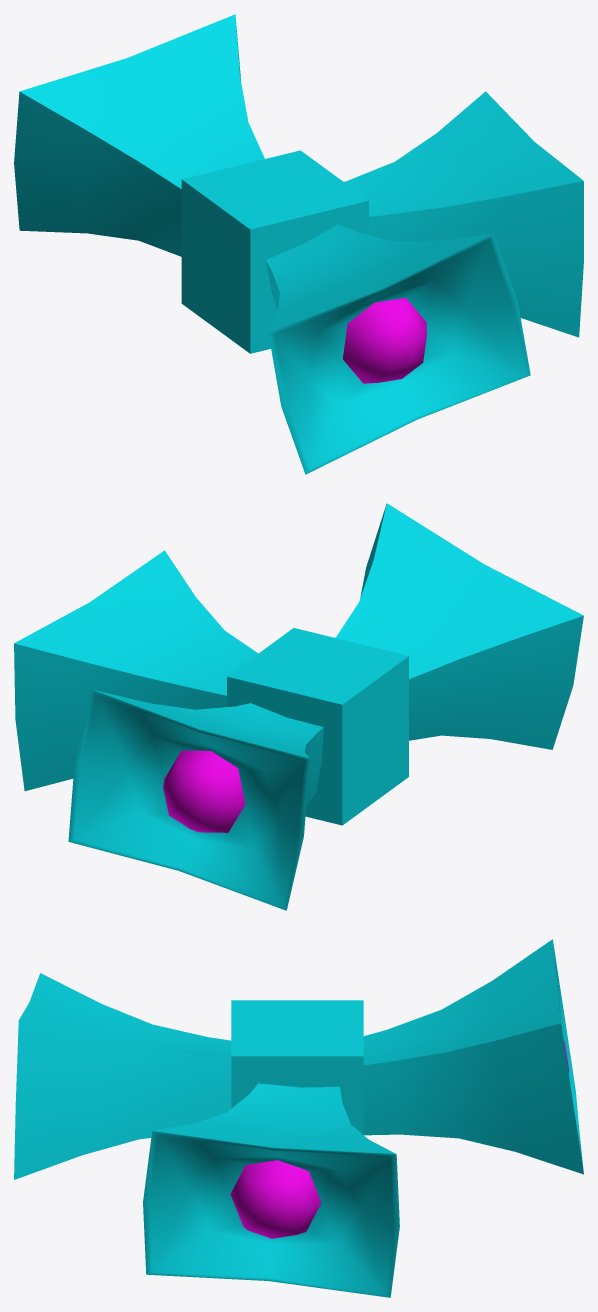
File: Altoparlanti.fbx
The picture shows the model from 3 angles, top to bottom: view 1: azimuth 30°, elevation 25°; view 2: azimuth 150°, elevation 25°; view 3: azimuth 270°, elevation 25°; orthographic projection. The views are drawn at different scales.
Visible parts, largest first — view 1: altoparlanti; view 2: altoparlanti; view 3: altoparlanti.
Part boxes in pixels (box(x1,y1,x2,y2)): altoparlanti: box(14, 14, 583, 474); altoparlanti: box(14, 503, 583, 910); altoparlanti: box(14, 939, 583, 1297).
Bounding box in the file's own units: 110 × 55.6 × 140.
